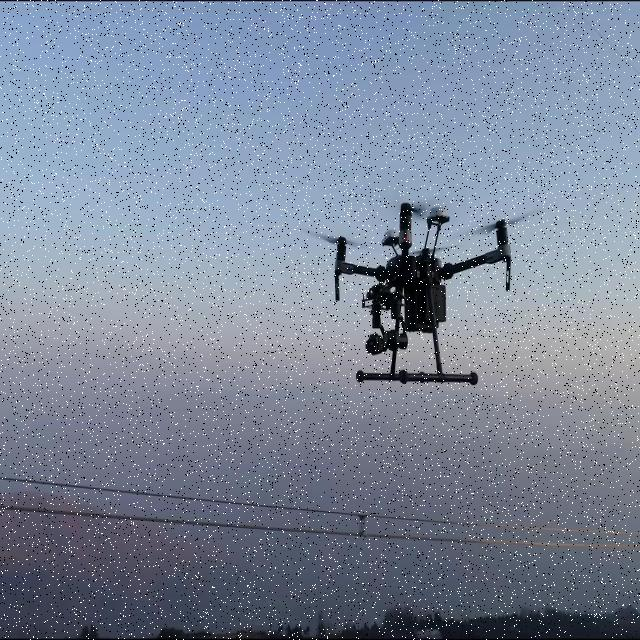UAV: (306, 201, 536, 385)
